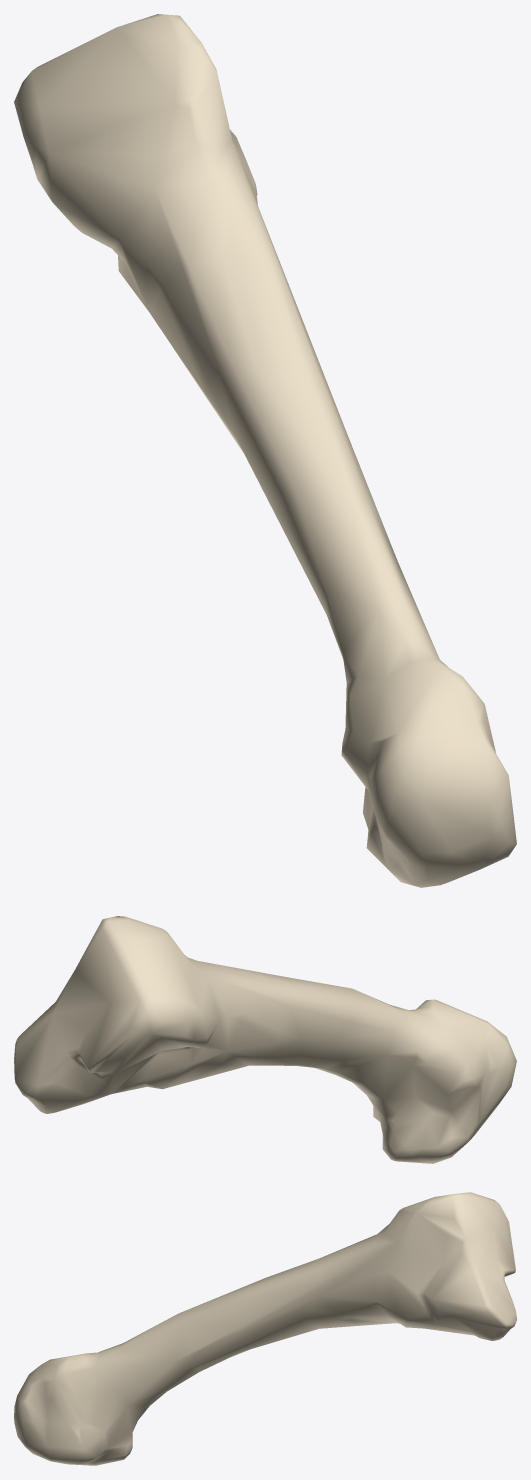
The model's file is third-metatarsal-bone-r.glb.
3 renders of one model, top to bottom at view 1: azimuth 30°, elevation 25°; view 2: azimuth 150°, elevation 25°; view 3: azimuth 270°, elevation 25°, orthographic. The views are drawn at different scales.
Visible parts, largest first — view 1: Third metatarsal bone.r; view 2: Third metatarsal bone.r; view 3: Third metatarsal bone.r.
Part boxes in pixels (x1,y1,x2,y2): Third metatarsal bone.r: (14,14,516,887); Third metatarsal bone.r: (14,916,516,1163); Third metatarsal bone.r: (14,1192,516,1465).
Size of the model in its own units: 0.0231 by 0.0444 by 0.0678.
